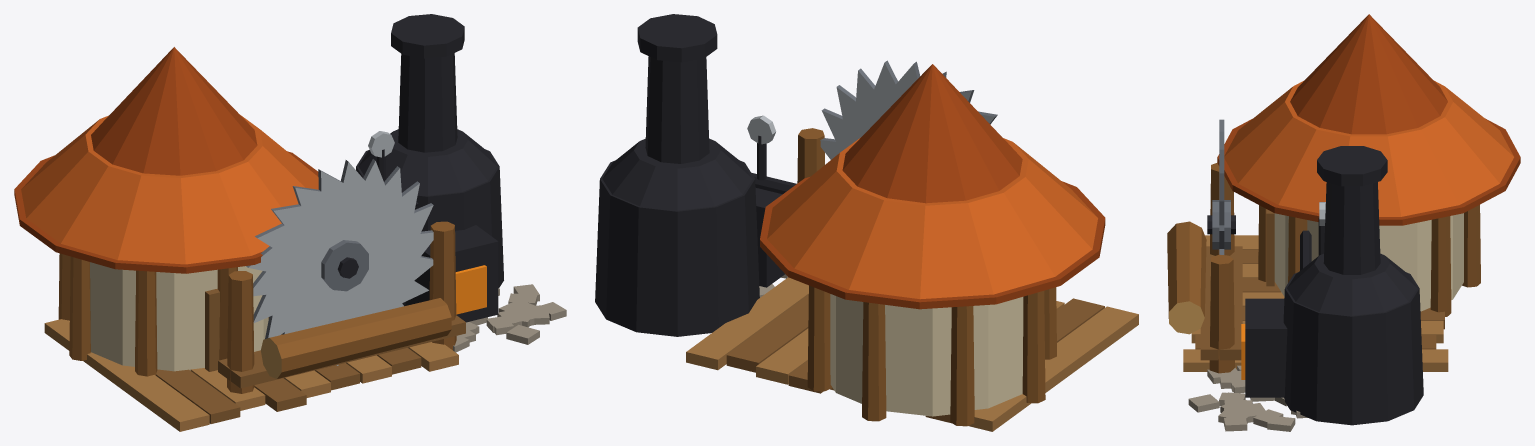
File: sawmill.glb
3 renders of one model, left to right at view 1: azimuth 30°, elevation 25°; view 2: azimuth 150°, elevation 25°; view 3: azimuth 270°, elevation 25°, orthographic. The views are drawn at different scales.
Parts seen in each view (by area): view 1: mill_roof, mill_saw, mill_boiler, mill_hut, mill_sawframe, mill_deck, mill_cobbles; view 2: mill_roof, mill_boiler, mill_hut, mill_deck, mill_saw, mill_sawframe; view 3: mill_roof, mill_boiler, mill_hut, mill_sawframe, mill_deck, mill_cobbles, mill_saw.
Boxes of the visible parts, left/top/right/bottom form: mill_roof: left=14, top=47, right=318, bottom=273; mill_saw: left=246, top=159, right=433, bottom=365; mill_boiler: left=356, top=14, right=503, bottom=322; mill_hut: left=58, top=253, right=282, bottom=376; mill_sawframe: left=218, top=221, right=465, bottom=393; mill_deck: left=44, top=319, right=458, bottom=431; mill_cobbles: left=453, top=284, right=566, bottom=352; mill_roof: left=760, top=64, right=1105, bottom=309; mill_boiler: left=595, top=14, right=796, bottom=336; mill_hut: left=807, top=285, right=1056, bottom=426; mill_deck: left=686, top=277, right=1138, bottom=431; mill_saw: left=820, top=60, right=997, bottom=159; mill_sawframe: left=797, top=128, right=824, bottom=183; mill_roof: left=1217, top=14, right=1520, bottom=225; mill_boiler: left=1241, top=146, right=1423, bottom=425; mill_hut: left=1258, top=205, right=1480, bottom=316; mill_sawframe: left=1167, top=163, right=1242, bottom=373; mill_deck: left=1183, top=235, right=1448, bottom=371; mill_cobbles: left=1188, top=365, right=1307, bottom=431; mill_saw: left=1207, top=119, right=1235, bottom=254.
Size of the model in its own units: 2.6 by 1.59 by 1.87.
